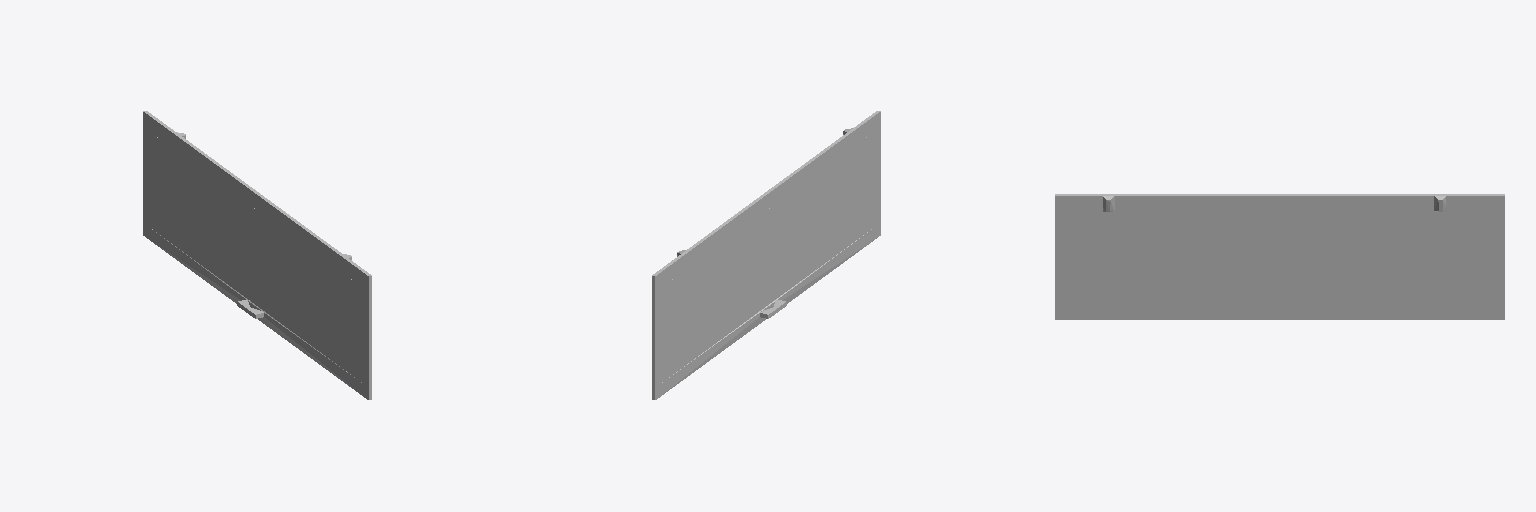
The model's file is wardrobe_door_left.obj.
3 views of the same model, side by side, from view 1: azimuth 30°, elevation 25°; view 2: azimuth 150°, elevation 25°; view 3: azimuth 270°, elevation 25° (orthographic).
Parts seen in each view (by area): view 1: convex_1, convex_4, convex_0, convex_6; view 2: convex_1, convex_4, convex_0, convex_6; view 3: convex_1, convex_0, convex_4, convex_6, convex_5.
Boxes of the visible parts, x1,y1,x2,y2 form: convex_1: [143, 127, 371, 387]; convex_4: [179, 137, 341, 269]; convex_0: [143, 223, 371, 399]; convex_6: [143, 111, 174, 147]; convex_1: [652, 127, 880, 387]; convex_4: [687, 133, 850, 265]; convex_0: [652, 223, 880, 399]; convex_6: [652, 254, 684, 291]; convex_1: [1055, 211, 1504, 306]; convex_0: [1055, 307, 1504, 319]; convex_4: [1115, 194, 1433, 210]; convex_6: [1446, 194, 1504, 210]; convex_5: [1055, 194, 1102, 210].
Size of the model in its own units: 0.0809 by 0.5028 by 1.65.